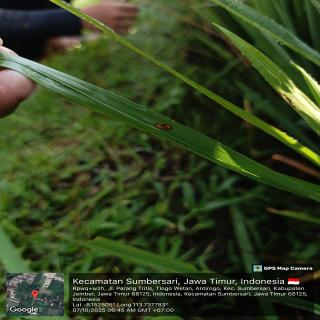Blast: (151, 120, 176, 133)
